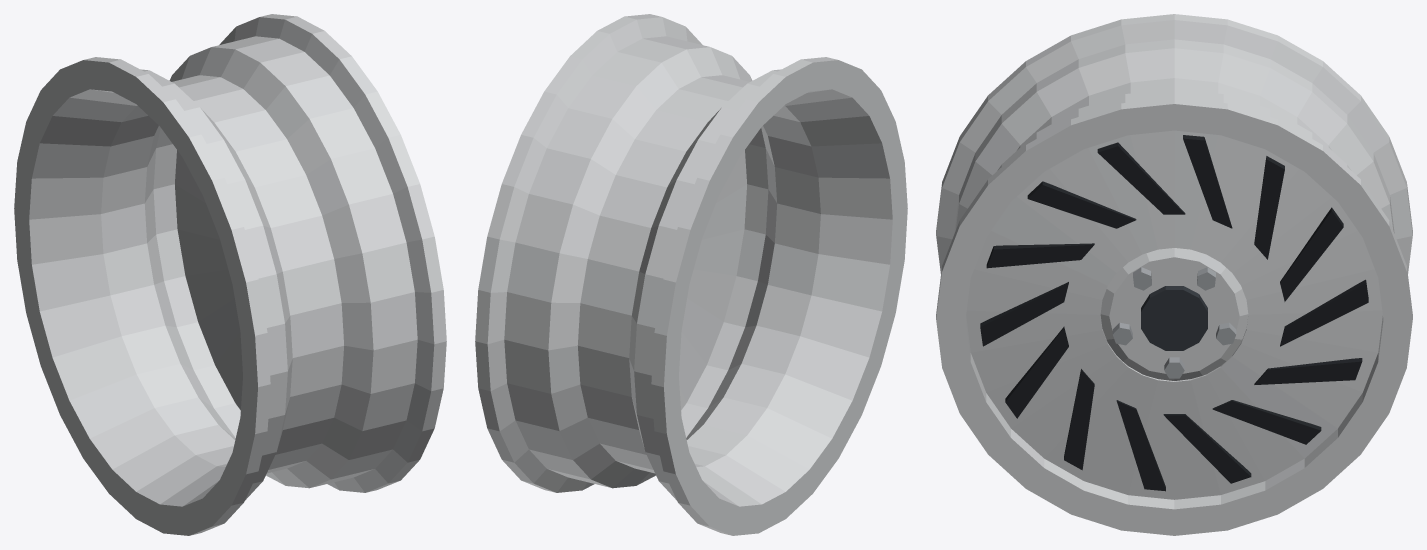
The model's file is rim_turbofan_16.glb.
3 renders of one model, left to right at view 1: azimuth 30°, elevation 25°; view 2: azimuth 150°, elevation 25°; view 3: azimuth 270°, elevation 25°, orthographic. The views are drawn at different scales.
Visible parts, largest first — view 1: model; view 2: model; view 3: model.
Part boxes in pixels (x1,y1,x2,y2): model: (14, 14, 446, 535); model: (475, 14, 907, 535); model: (936, 14, 1412, 535).
Size of the model in its own units: 0.1988 by 0.4384 by 0.4384.
3 materials, 1 textured.
